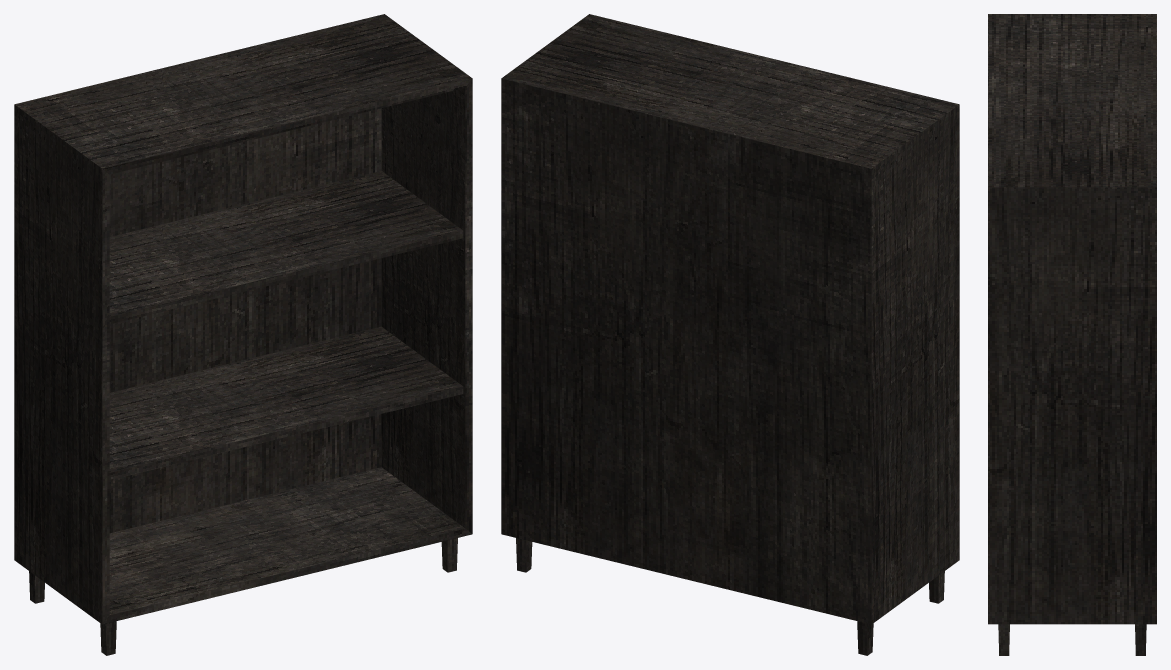
Rendered from shelf_mp_3.glb.
The picture shows the model from 3 angles, left to right: view 1: azimuth 30°, elevation 25°; view 2: azimuth 150°, elevation 25°; view 3: azimuth 270°, elevation 25°; orthographic projection. The views are drawn at different scales.
Visible parts, largest first — view 1: shelf_mp_3; view 2: shelf_mp_3; view 3: shelf_mp_3.
Boxes of the visible parts, <box> form: shelf_mp_3: <box>14,14,472,655</box>; shelf_mp_3: <box>501,14,959,655</box>; shelf_mp_3: <box>988,14,1156,655</box>.
Size of the model in its own units: 1.02 by 1.3 by 0.42.
1 material, 1 textured.
